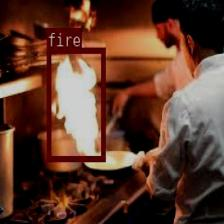fire: (46, 47, 105, 161)
